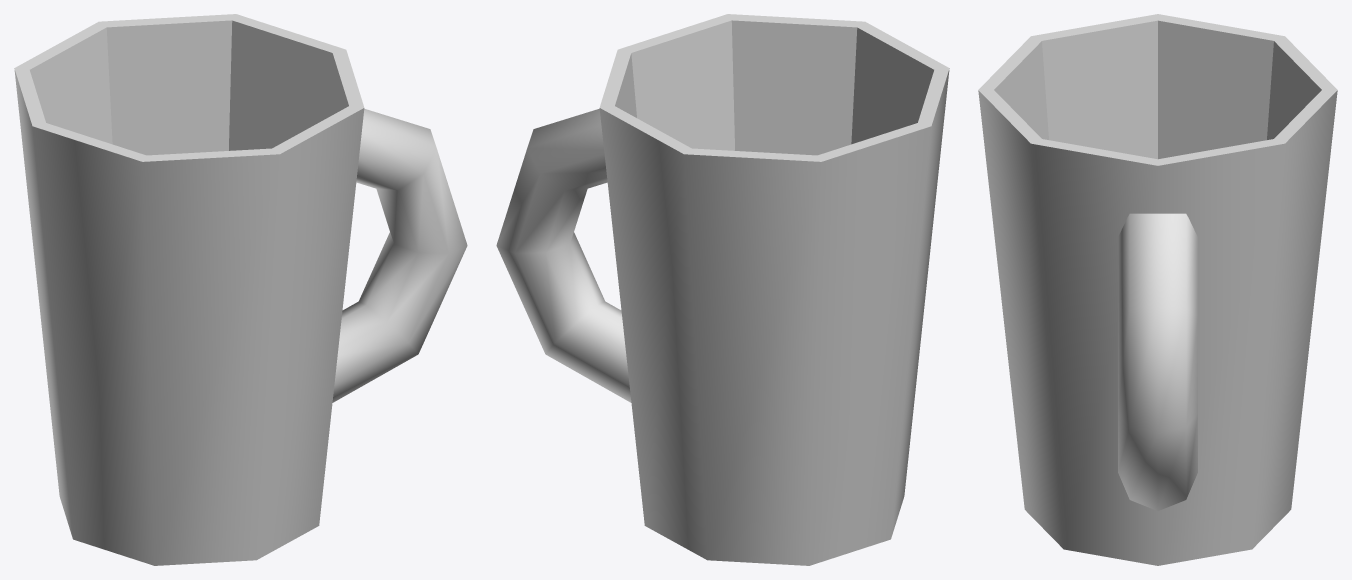
File: Itr_Obj_Cup2_06.FBX
3 renders of one model, left to right at view 1: azimuth 30°, elevation 25°; view 2: azimuth 150°, elevation 25°; view 3: azimuth 270°, elevation 25°, orthographic.
Parts seen in each view (by area): view 1: Itr_Obj_Cup2_06; view 2: Itr_Obj_Cup2_06; view 3: Itr_Obj_Cup2_06.
Boxes of the visible parts, <box> form: Itr_Obj_Cup2_06: <box>14,14,467,565</box>; Itr_Obj_Cup2_06: <box>496,14,949,565</box>; Itr_Obj_Cup2_06: <box>978,14,1337,565</box>.
Bounding box in the file's own units: 5.97 × 5.6 × 4.35.
